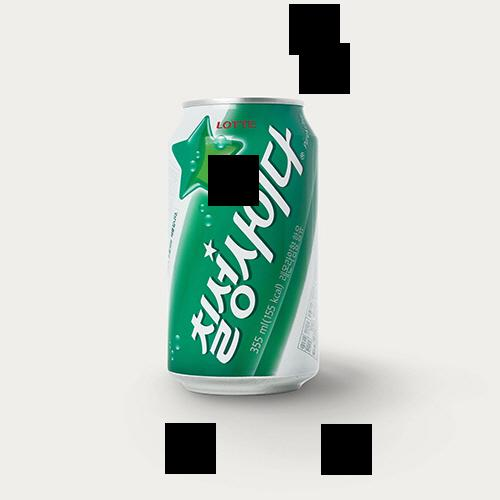chilsungcider: (158, 96, 339, 400)
